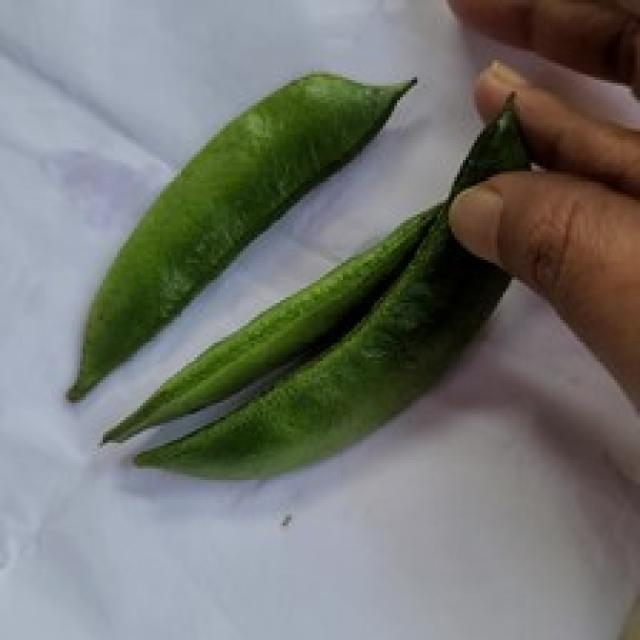Bean: (63, 59, 409, 411), (94, 197, 465, 460)
